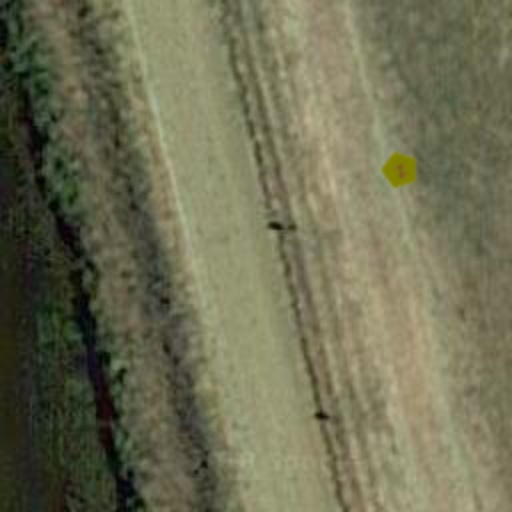pentagon: (372, 142, 428, 198)
